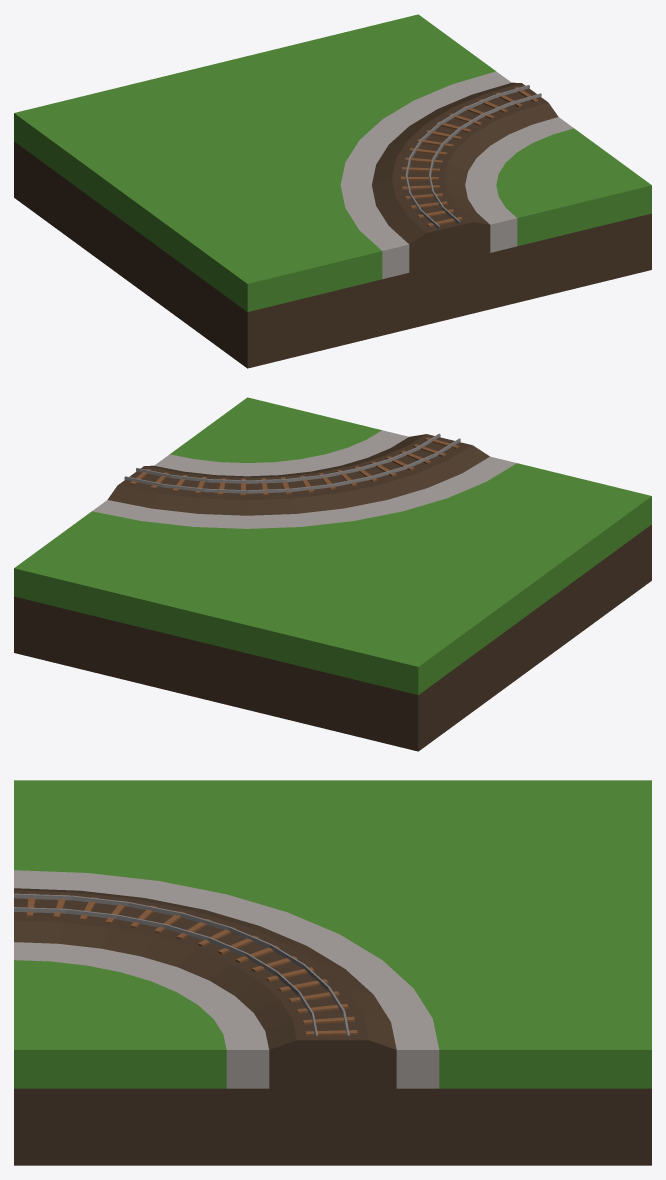
Rendered from tile-rail-curve.fbx.
3 views of the same model, one above another, from view 1: azimuth 30°, elevation 25°; view 2: azimuth 150°, elevation 25°; view 3: azimuth 270°, elevation 25° (orthographic). The views are drawn at different scales.
Parts seen in each view (by area): view 1: tile-rail-curve; view 2: tile-rail-curve; view 3: tile-rail-curve.
Part boxes in pixels (x1=…): tile-rail-curve: x1=14, y1=14, x2=651, y2=368; tile-rail-curve: x1=14, y1=397, x2=651, y2=751; tile-rail-curve: x1=14, y1=780, x2=651, y2=1165.
Bounding box in the file's own units: 30.01 × 6.75 × 30.
